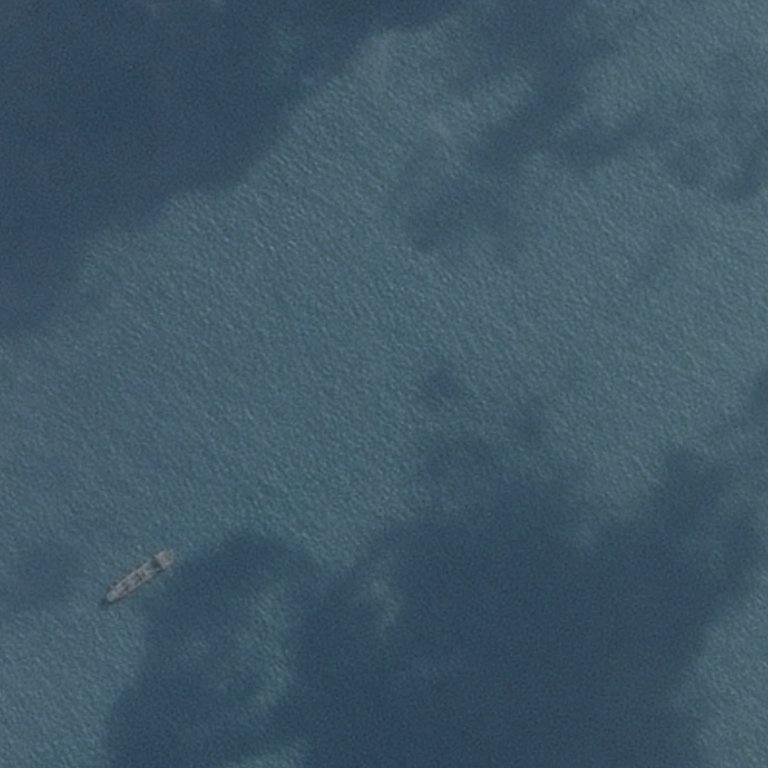ship: (63, 543, 66, 605), (162, 548, 168, 552), (1, 558, 5, 564), (104, 597, 109, 601)
